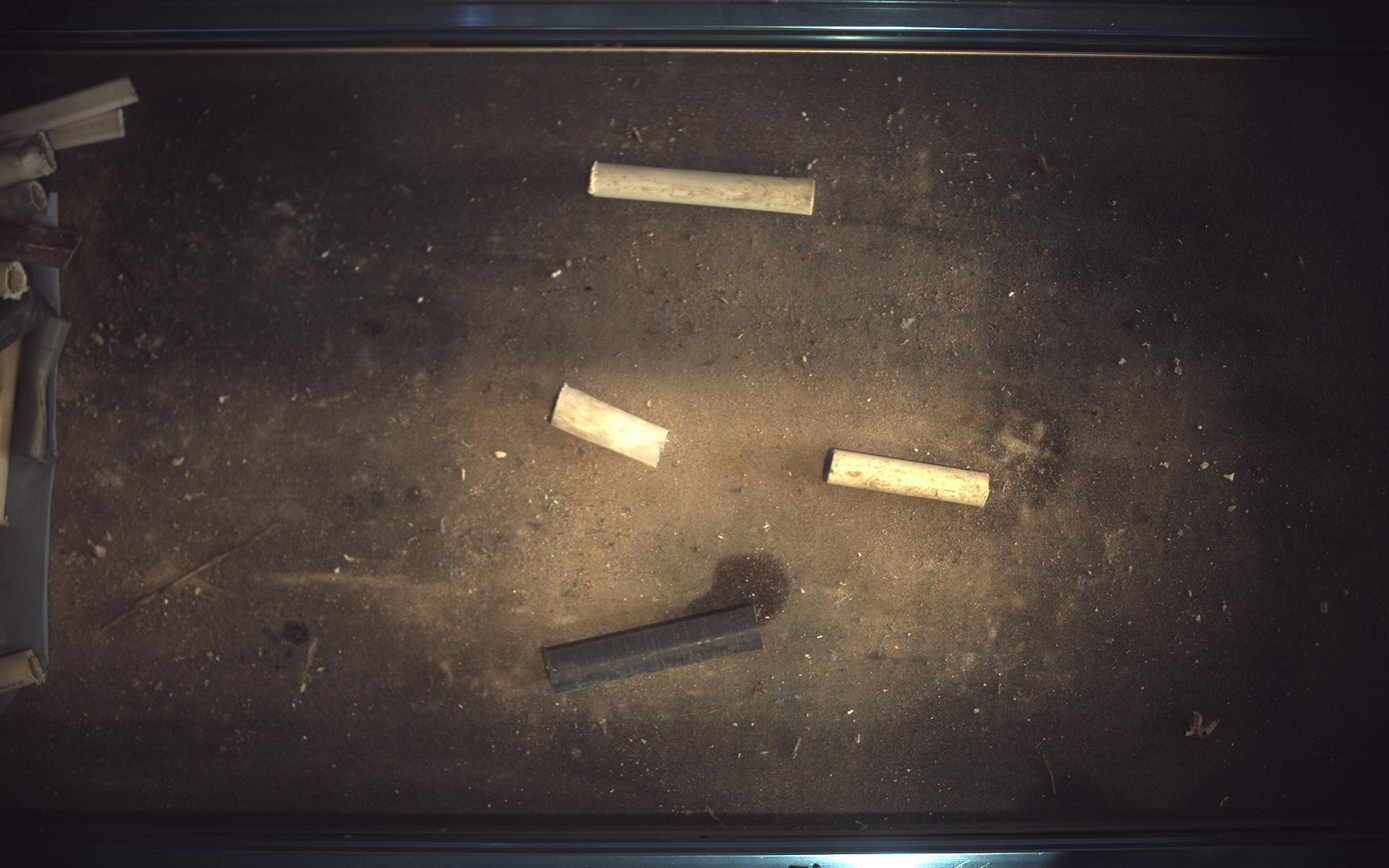pipes: (543, 603, 764, 694), (590, 161, 817, 214), (552, 383, 668, 468), (826, 449, 992, 507)
